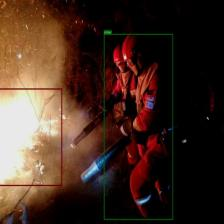fire: (0, 88, 62, 186)
